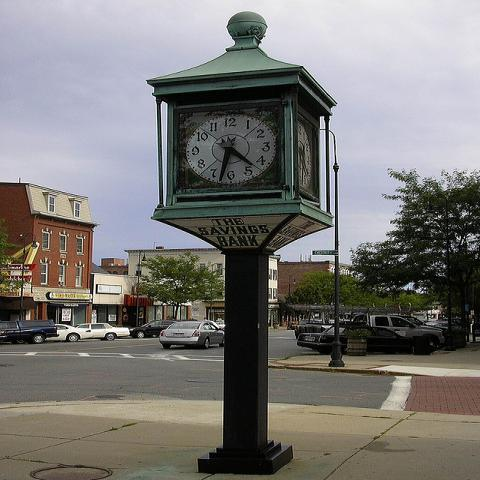car: (296, 327, 446, 356), (158, 320, 225, 350), (1, 320, 58, 344), (73, 323, 130, 341), (129, 320, 177, 338), (46, 324, 83, 343), (393, 316, 434, 328), (289, 319, 322, 330), (432, 323, 463, 329)
truck: (294, 315, 444, 349), (0, 319, 61, 345)
